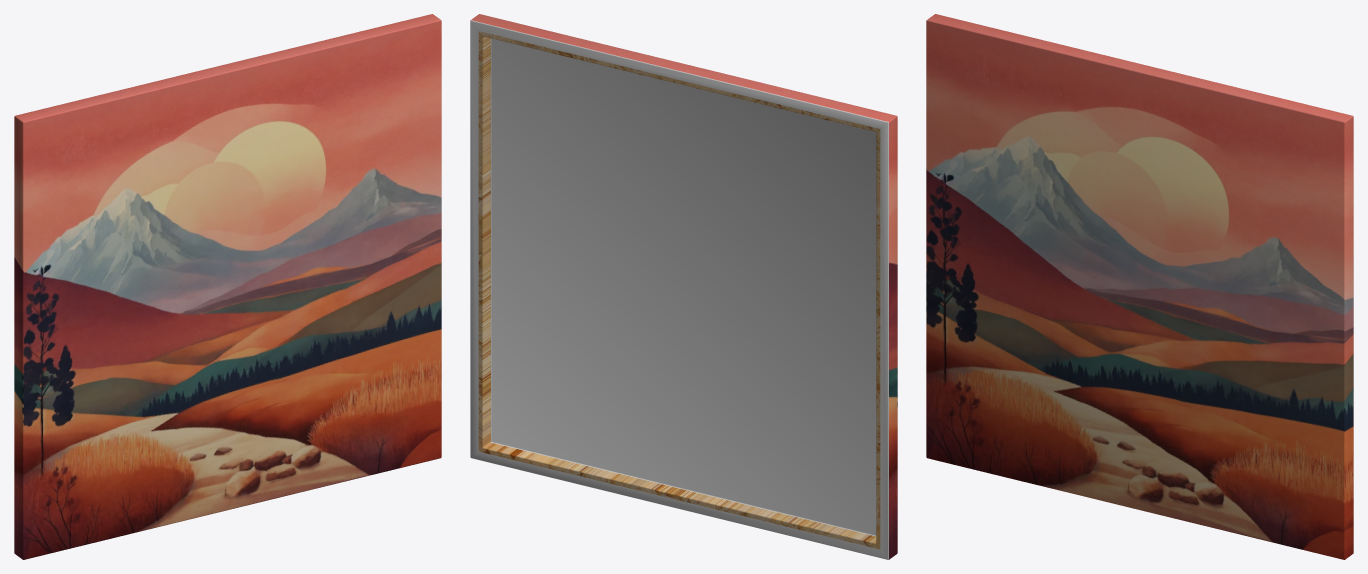
The model's file is lukisan dinding.fbx.
3 views of the same model, side by side, from view 1: azimuth 30°, elevation 25°; view 2: azimuth 150°, elevation 25°; view 3: azimuth 330°, elevation 25° (orthographic).
Parts seen in each view (by area): view 1: Painting 2; view 2: Painting 2; view 3: Painting 2.
Boxes of the visible parts, x1,y1,x2,y2 form: Painting 2: (14,14,441,559); Painting 2: (470,14,897,559); Painting 2: (926,14,1353,559).
Size of the model in its own units: 239 by 239 by 8.97.
Materials: 3 (2 with a texture image).
